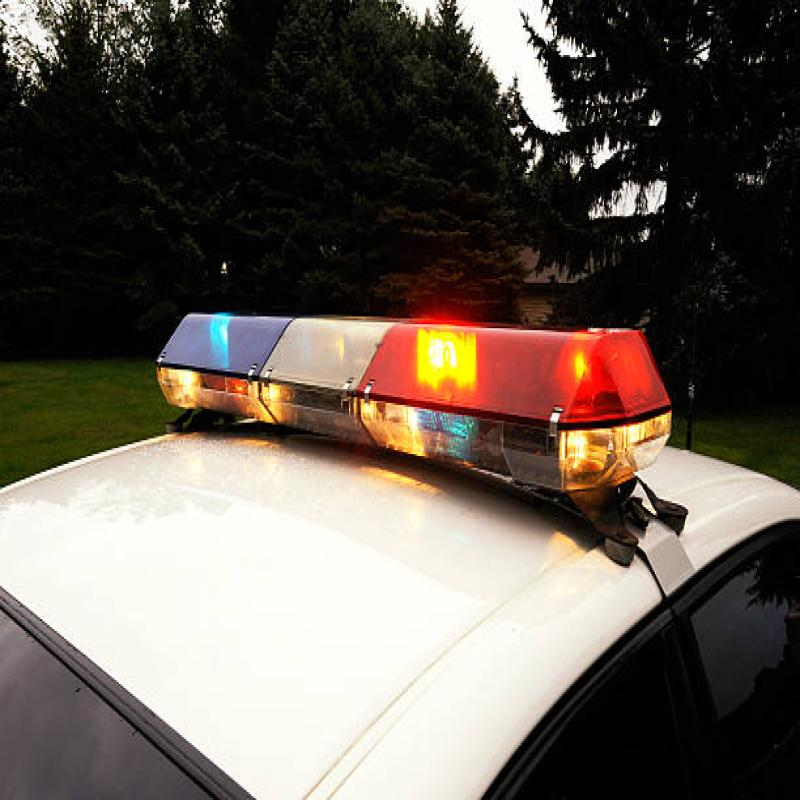AmbulanceSiren: (142, 263, 648, 546)
